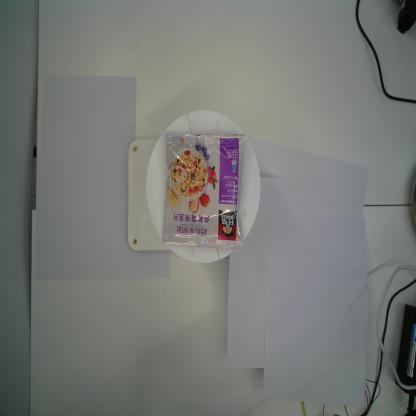Instant Drink: (160, 134, 244, 250)
